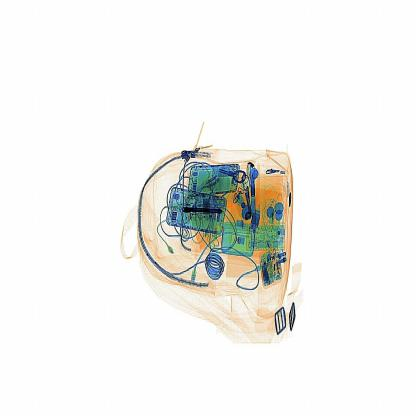knife: (182, 204, 224, 220)
